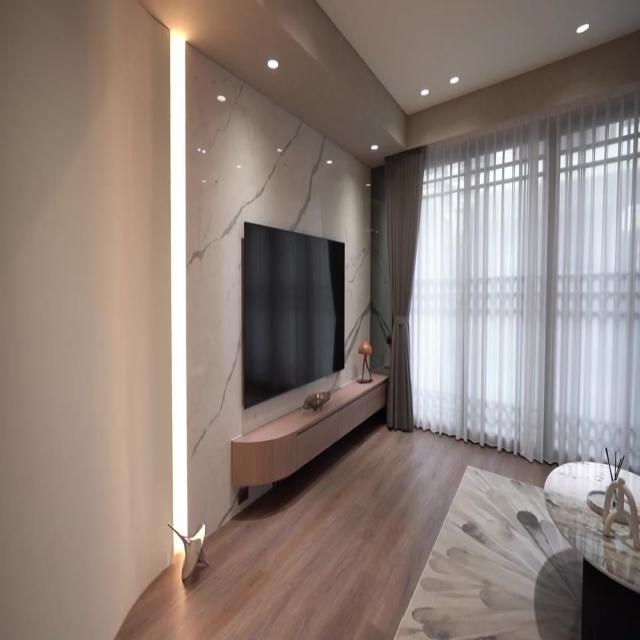obstacle: (230, 371, 389, 488), (540, 459, 640, 640)
